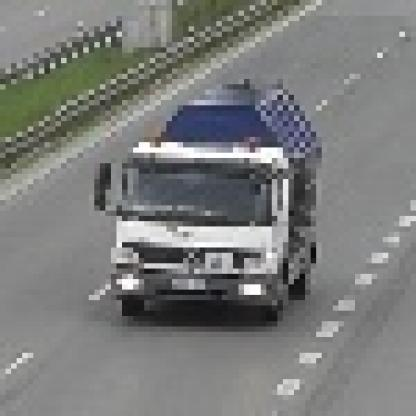truck: (90, 69, 323, 317)
